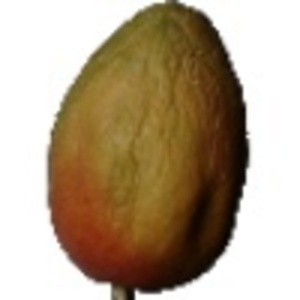mamão: (36, 2, 257, 291)
